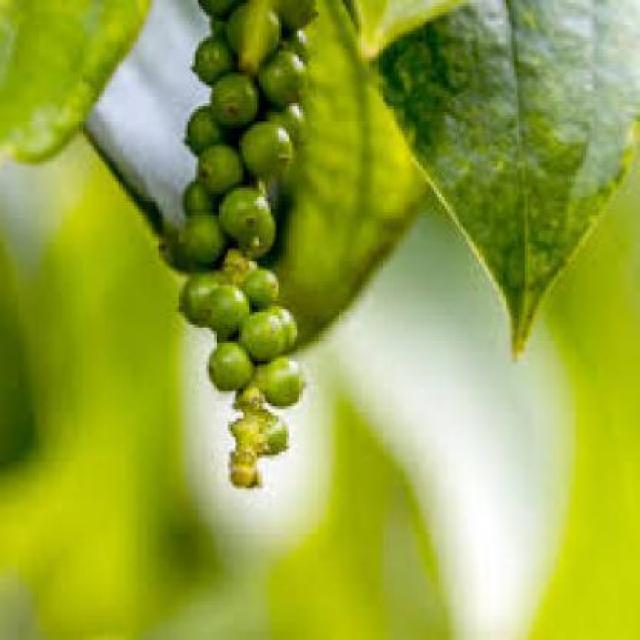UNRIPE: (183, 0, 311, 483)
